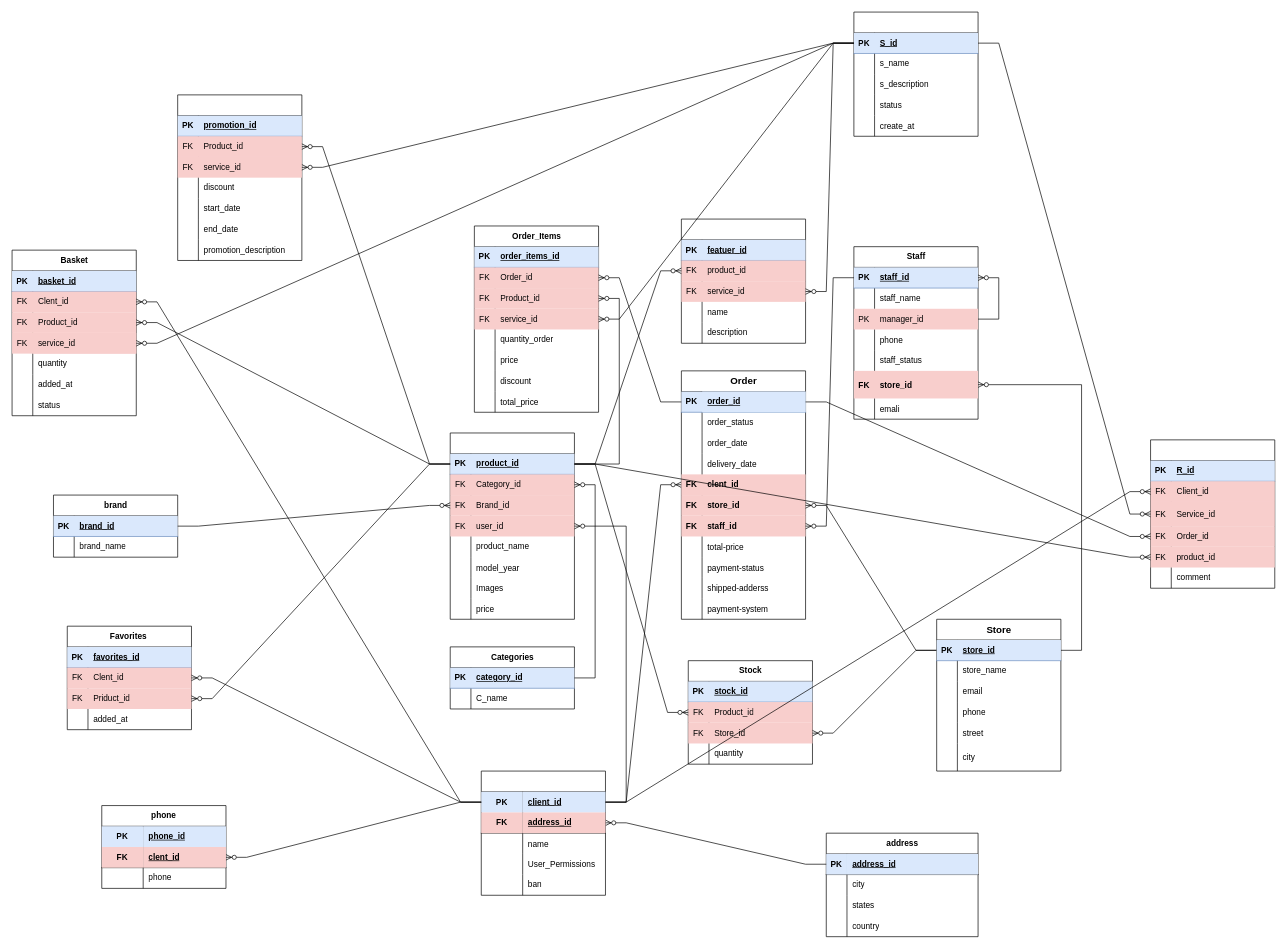
This 1287x949 diagram has some shape labels left out. Each missing label, with the box of its shape:
Clients: (481, 770, 605, 895)
Featuers: (681, 218, 806, 343)
Products: (450, 432, 574, 619)
Promotions: (177, 94, 302, 260)
Reviews: (1150, 439, 1275, 588)
Services: (853, 11, 978, 136)
